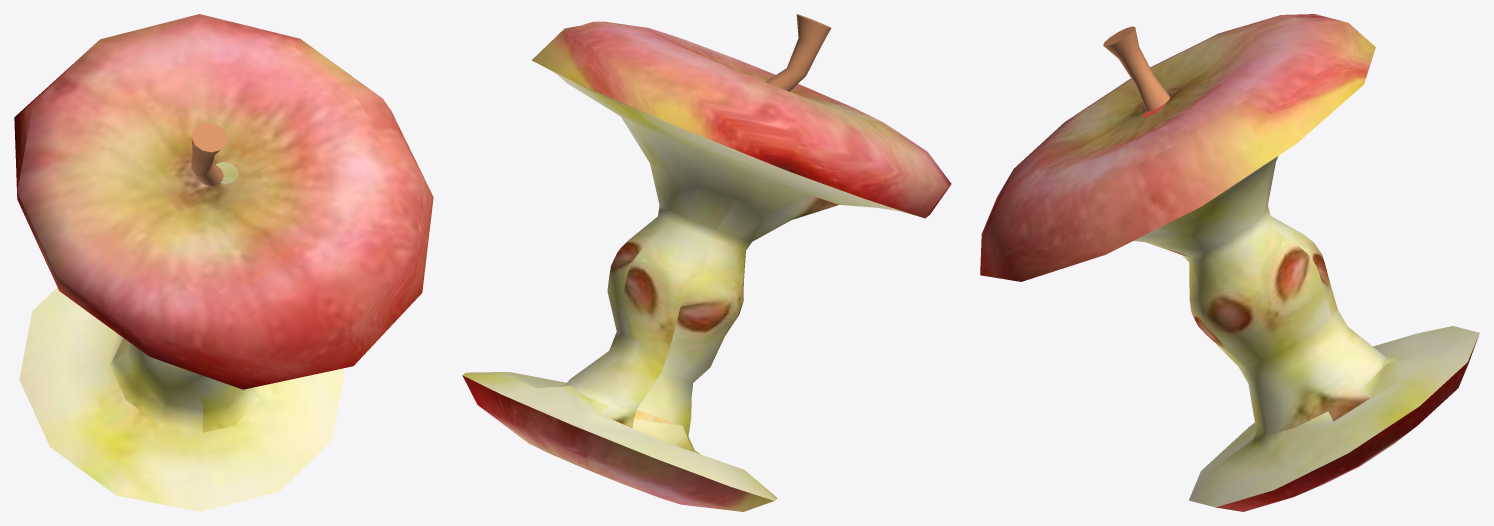
The model's file is bit-apple.glb.
The picture shows the model from 3 angles, left to right: view 1: azimuth 30°, elevation 25°; view 2: azimuth 150°, elevation 25°; view 3: azimuth 270°, elevation 25°; orthographic projection. The views are drawn at different scales.
Parts seen in each view (by area): view 1: Line002; view 2: Line002; view 3: Line002.
Part boxes in pixels (x1,y1,x2,y2): Line002: [14, 14, 433, 511]; Line002: [462, 14, 951, 511]; Line002: [980, 14, 1479, 511].
Size of the model in its own units: 2.36 by 2.73 by 2.76.
Materials: 1 (1 with a texture image).
